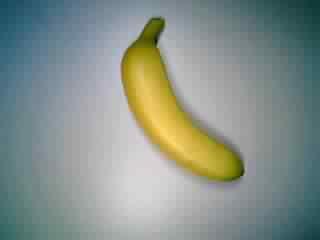banana: (118, 15, 246, 185)
